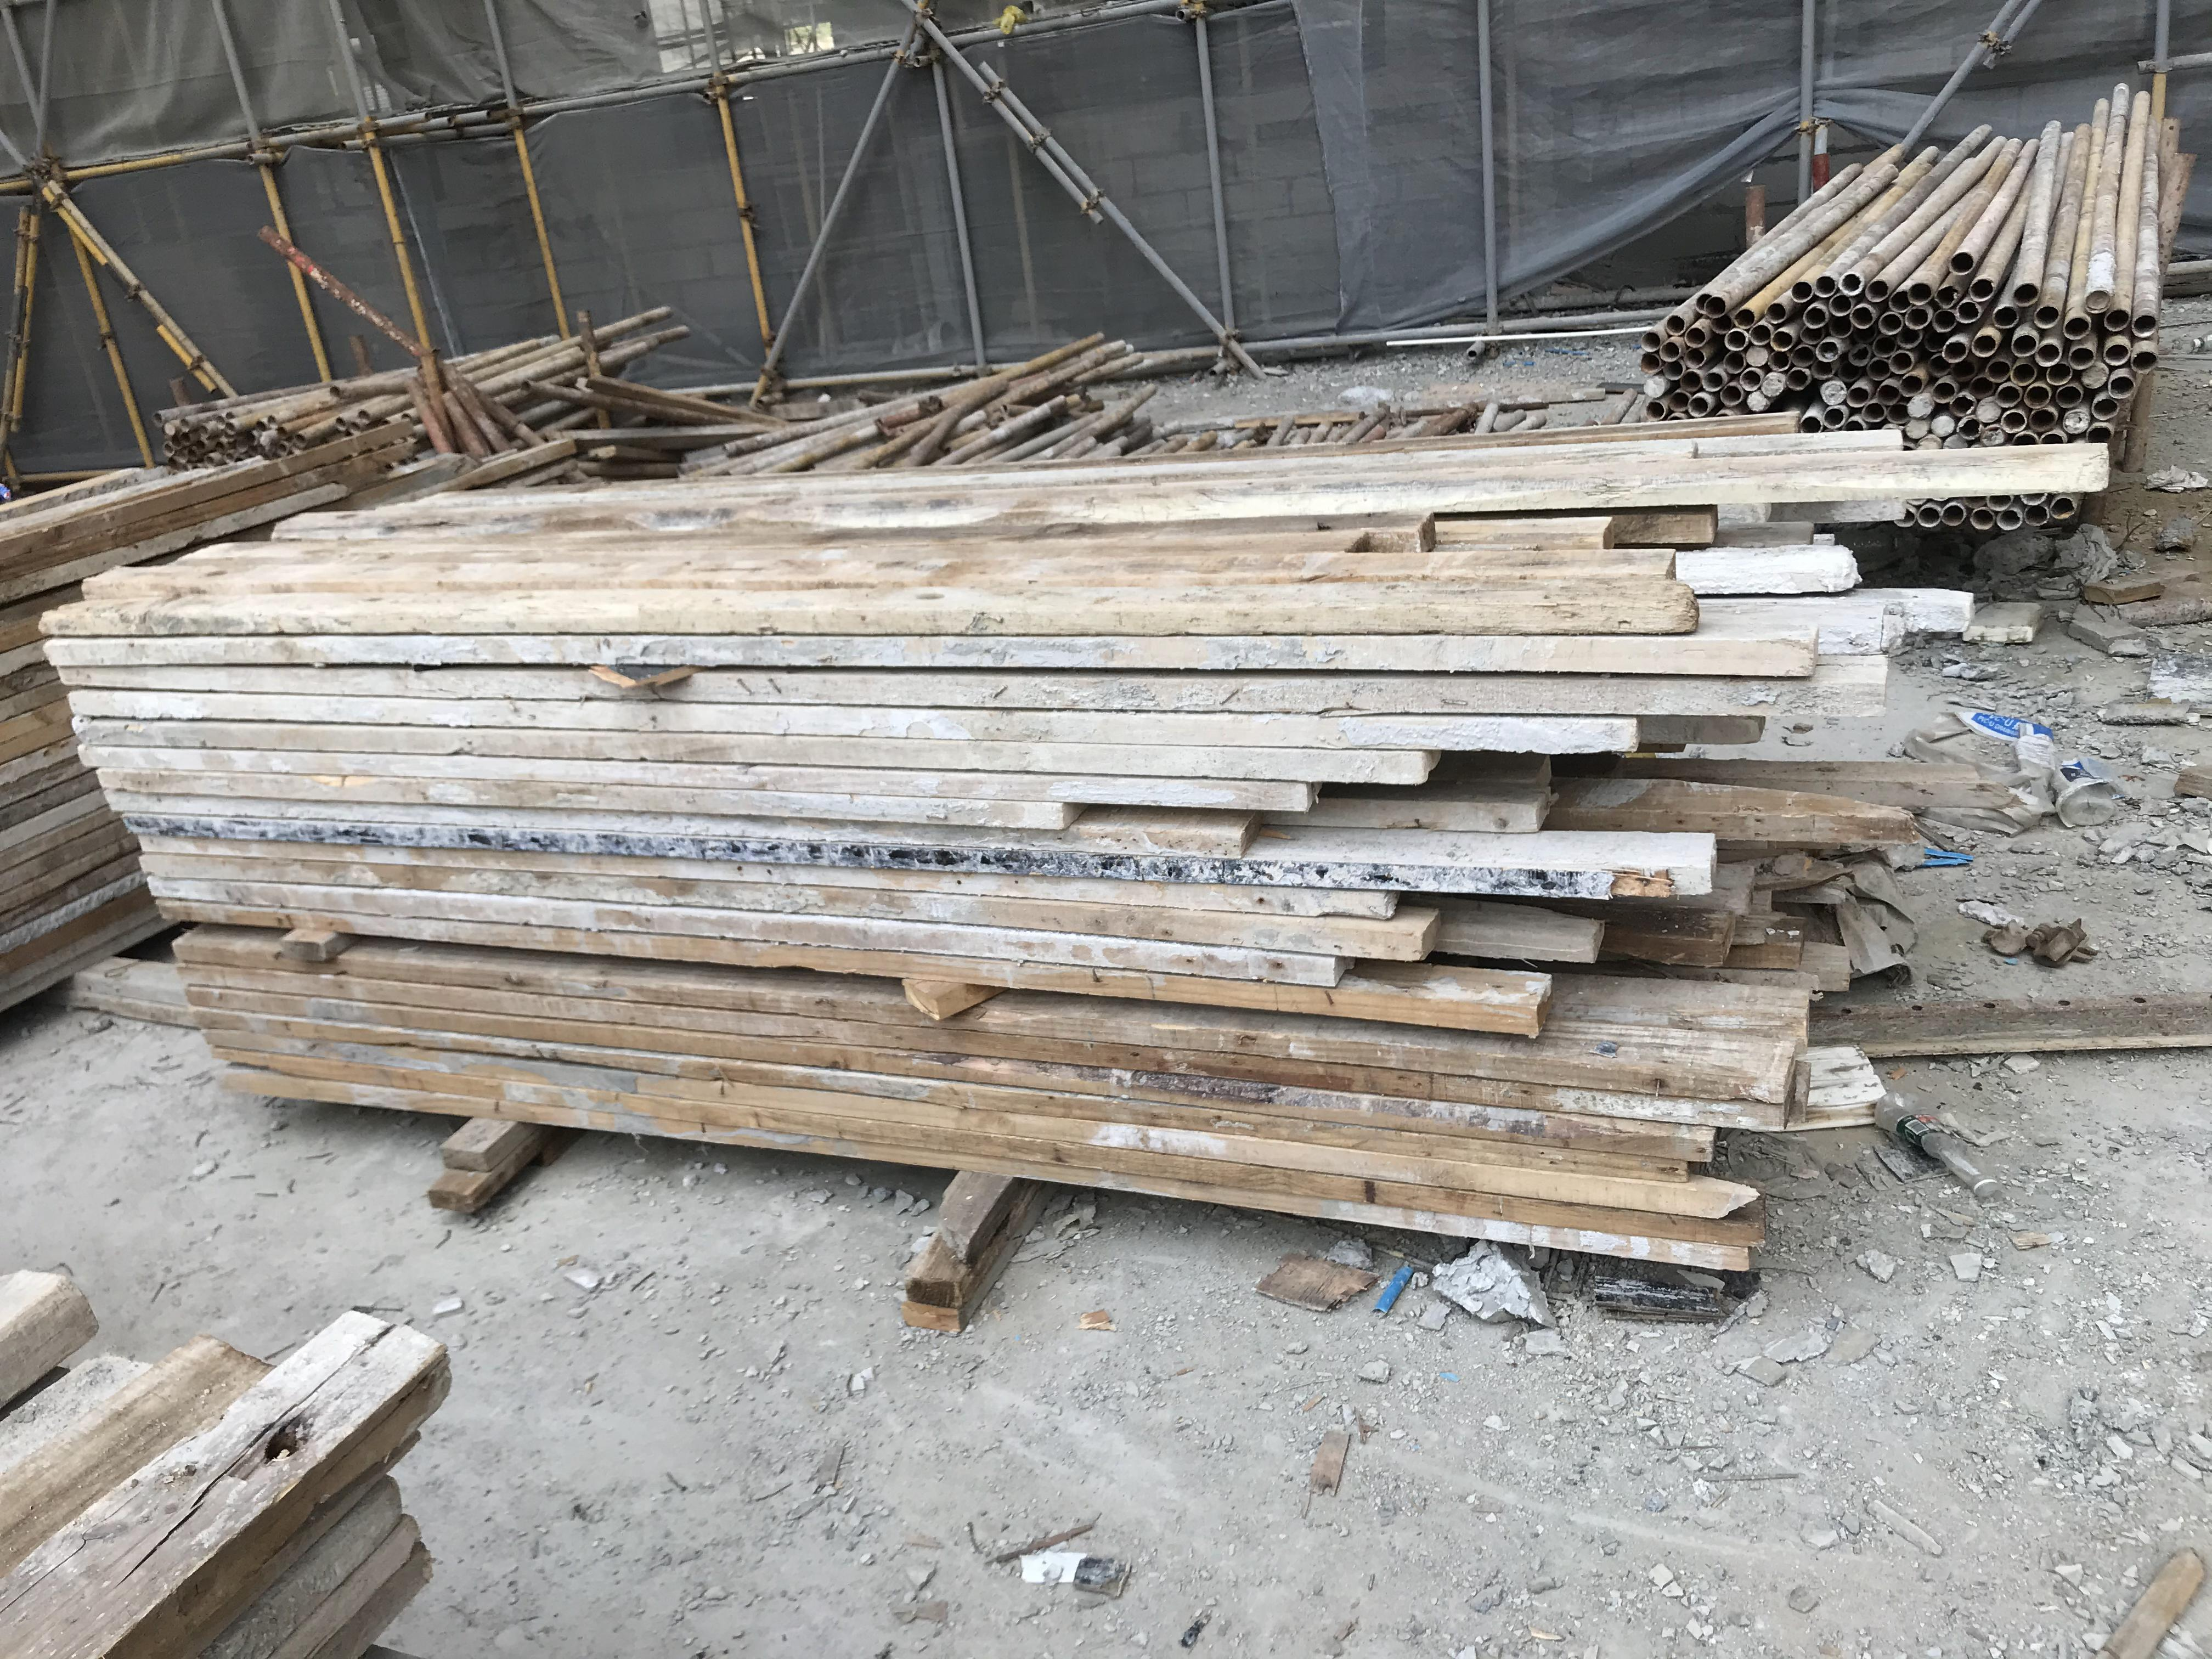scaffold: (1642, 68, 2212, 441), (674, 364, 1526, 481)
wood: (51, 422, 2102, 1331), (0, 437, 354, 1011), (14, 1274, 472, 1659)
